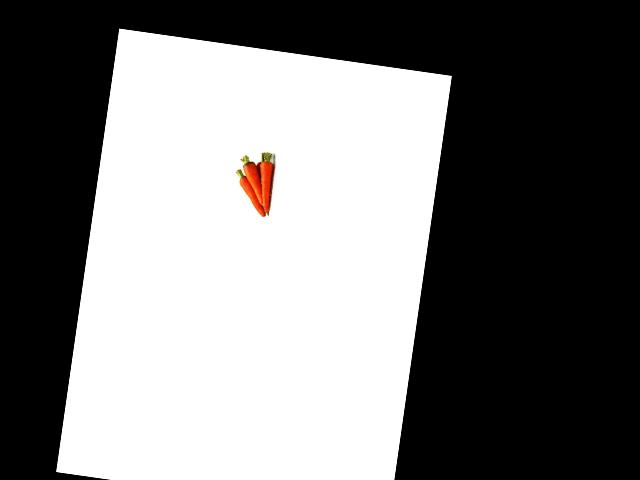carrot: (253, 155, 281, 218)
